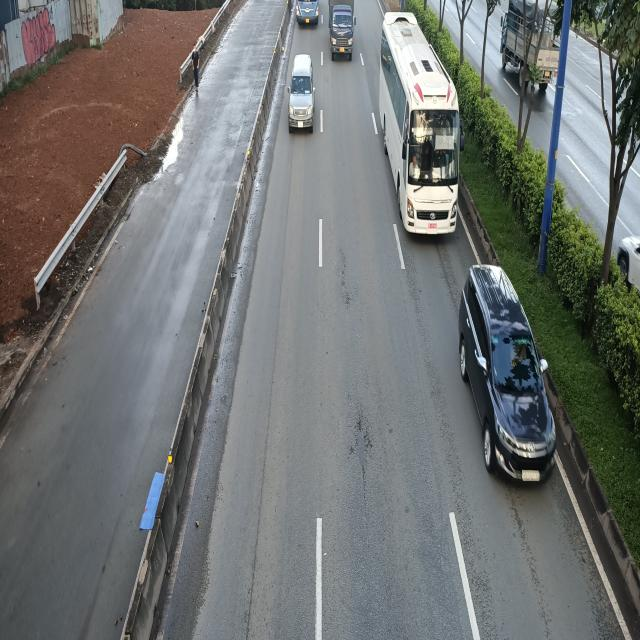car: (458, 264, 559, 488), (286, 52, 314, 131)
coach: (379, 9, 467, 243), (292, 0, 320, 27)
truck: (329, 2, 357, 62)
